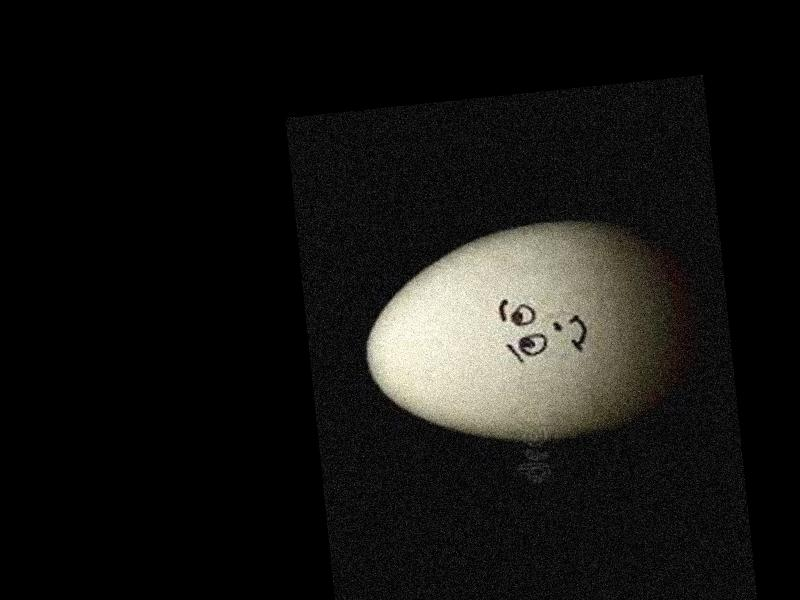Eggs: (354, 210, 695, 456)
